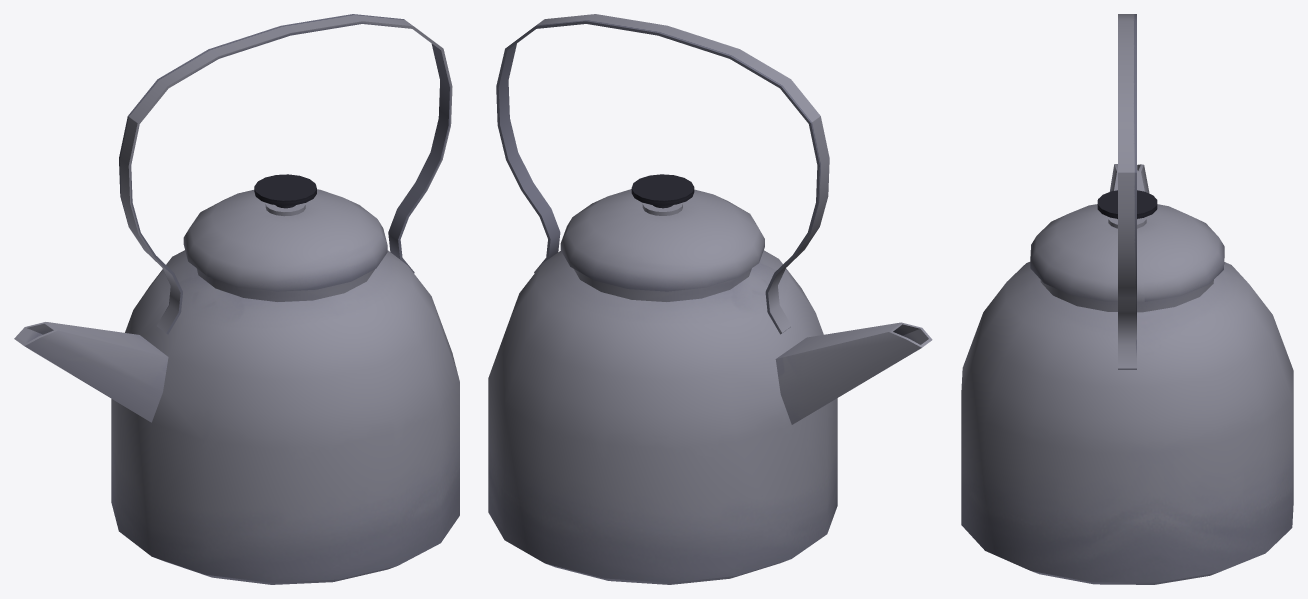
Rendered from Coffeepot.gltf.
3 renders of one model, left to right at view 1: azimuth 30°, elevation 25°; view 2: azimuth 150°, elevation 25°; view 3: azimuth 270°, elevation 25°, orthographic. The views are drawn at different scales.
Visible parts, largest first — view 1: prop_coffeepan; view 2: prop_coffeepan; view 3: prop_coffeepan.
Part boxes in pixels (x1,y1,x2,y2): prop_coffeepan: (14, 14, 459, 584); prop_coffeepan: (488, 14, 932, 584); prop_coffeepan: (961, 14, 1293, 584).
Size of the model in its own units: 2.82 by 3.08 by 1.97.
Materials: 1 (1 with a texture image).
